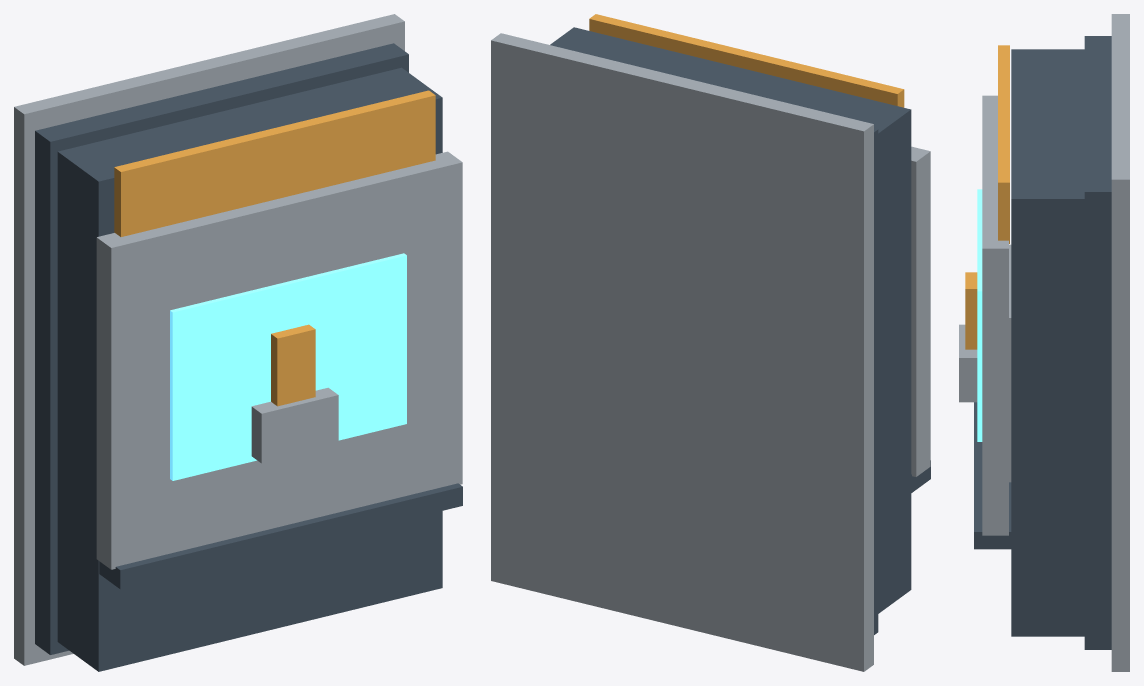
The picture shows the model from 3 angles, left to right: view 1: azimuth 30°, elevation 25°; view 2: azimuth 150°, elevation 25°; view 3: azimuth 270°, elevation 25°; orthographic projection. The views are drawn at different scales.
Visible parts, largest first — view 1: Cover, Housing, SafetyWindow, UpperWarning, WallPlate, Seal, CoverBottomLip, ActuatorFoot, Actuator; view 2: WallPlate, Housing, Cover, UpperWarning, Seal; view 3: Housing, Seal, WallPlate, Cover, UpperWarning, CoverBottomLip, SafetyWindow, ActuatorFoot, Actuator, SwitchPlate.
Boxes of the visible parts, x1,y1,x2,y2 form: Cover: (96, 151, 462, 569); Housing: (57, 67, 442, 671); SafetyWindow: (170, 253, 406, 480); UpperWarning: (114, 90, 435, 236); WallPlate: (14, 14, 404, 665); Seal: (35, 43, 408, 654); CoverBottomLip: (99, 483, 462, 589); ActuatorFoot: (251, 387, 338, 463); Actuator: (271, 324, 315, 406); WallPlate: (491, 33, 873, 671); Housing: (550, 27, 911, 613); Cover: (911, 146, 930, 476); UpperWarning: (589, 14, 904, 107); Seal: (874, 128, 878, 634); Housing: (1011, 49, 1084, 636); Seal: (1084, 36, 1111, 649); WallPlate: (1111, 14, 1129, 671); Cover: (982, 95, 1008, 535); UpperWarning: (998, 45, 1009, 243); CoverBottomLip: (974, 402, 1011, 549); SafetyWindow: (977, 189, 982, 441); ActuatorFoot: (959, 324, 977, 402); Actuator: (965, 272, 977, 349); SwitchPlate: (1009, 244, 1011, 482).
Bounding box in the file's own units: 0.52 × 0.72 × 0.2265.
